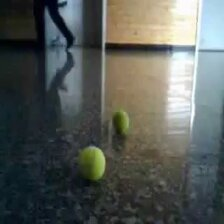tennis: (77, 146, 107, 181), (111, 111, 130, 136)
